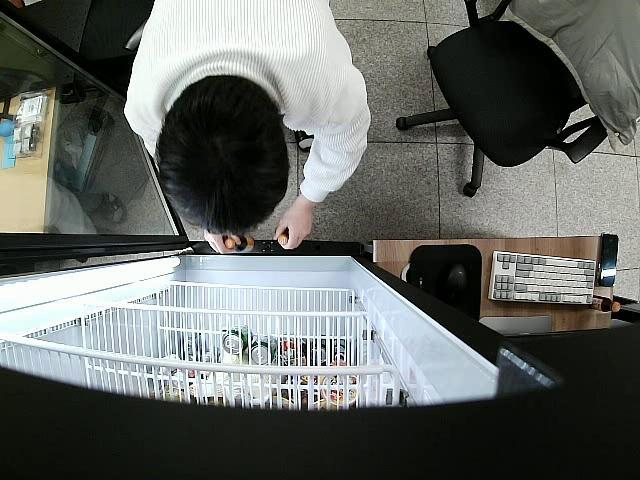17_vita500: (224, 235, 257, 252), (275, 226, 291, 244)
